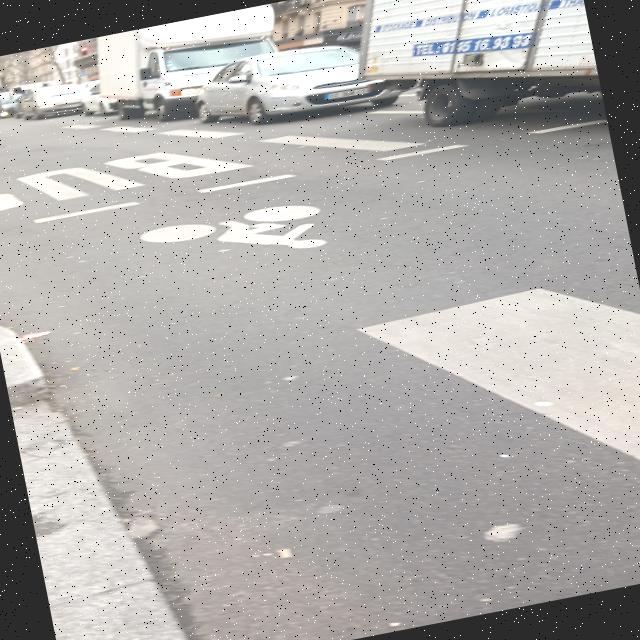Autre: (316, 80, 378, 108)
